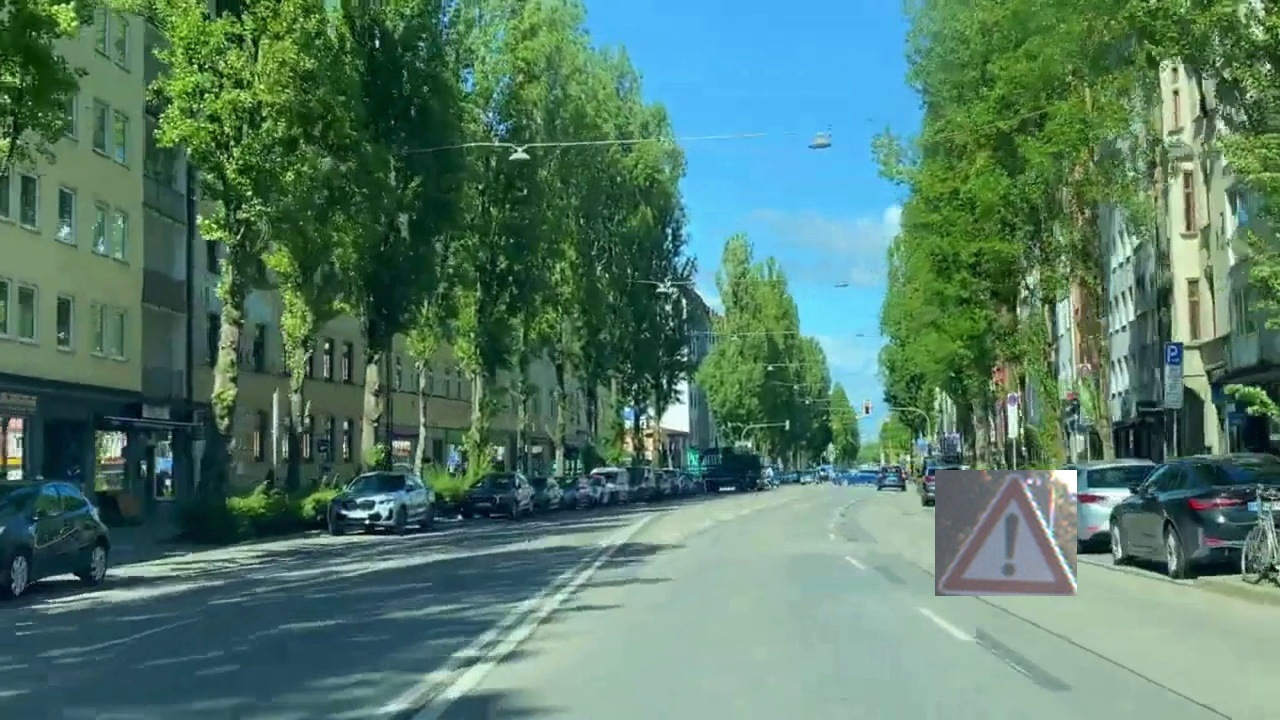Caution: (935, 470, 1077, 596)
